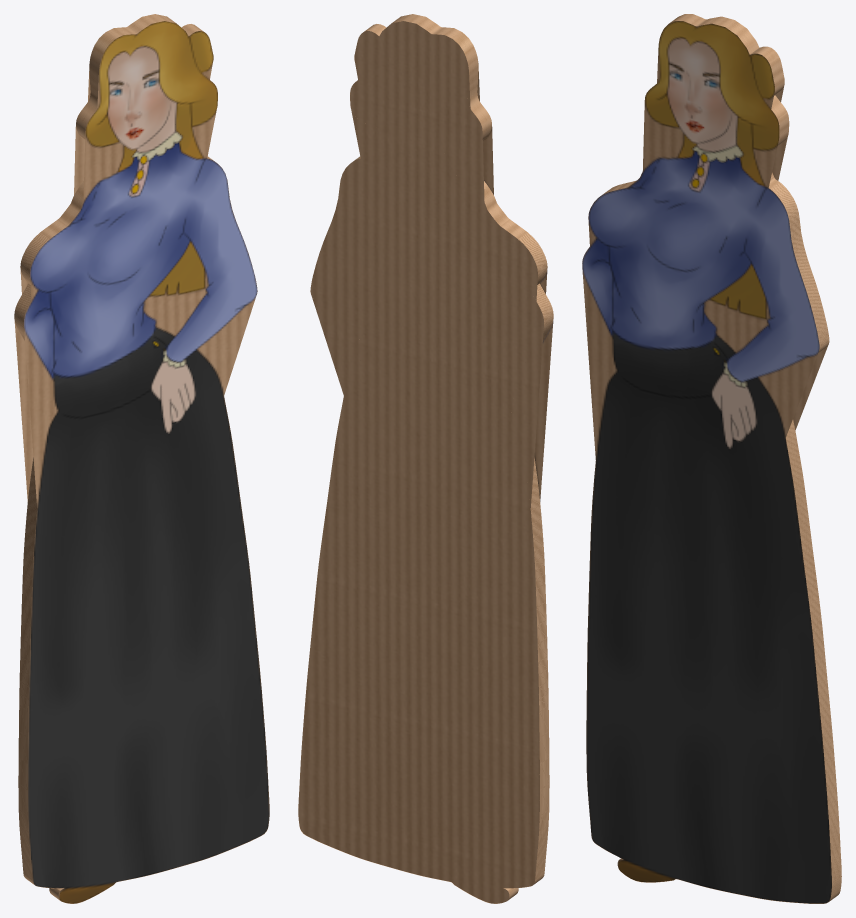
Rendered from Abigail.fbx.
3 views of the same model, side by side, from view 1: azimuth 30°, elevation 25°; view 2: azimuth 150°, elevation 25°; view 3: azimuth 330°, elevation 25° (orthographic).
Parts seen in each view (by area): view 1: svgMesh1; view 2: svgMesh1; view 3: svgMesh1.
Boxes of the visible parts, box(x1,y1,x2,y2) form: svgMesh1: box(14, 14, 269, 903); svgMesh1: box(298, 14, 553, 903); svgMesh1: box(582, 14, 841, 903).
Bounding box in the file's own units: 3.46 × 11.58 × 0.2319.
Materials: 1 (1 with a texture image).
